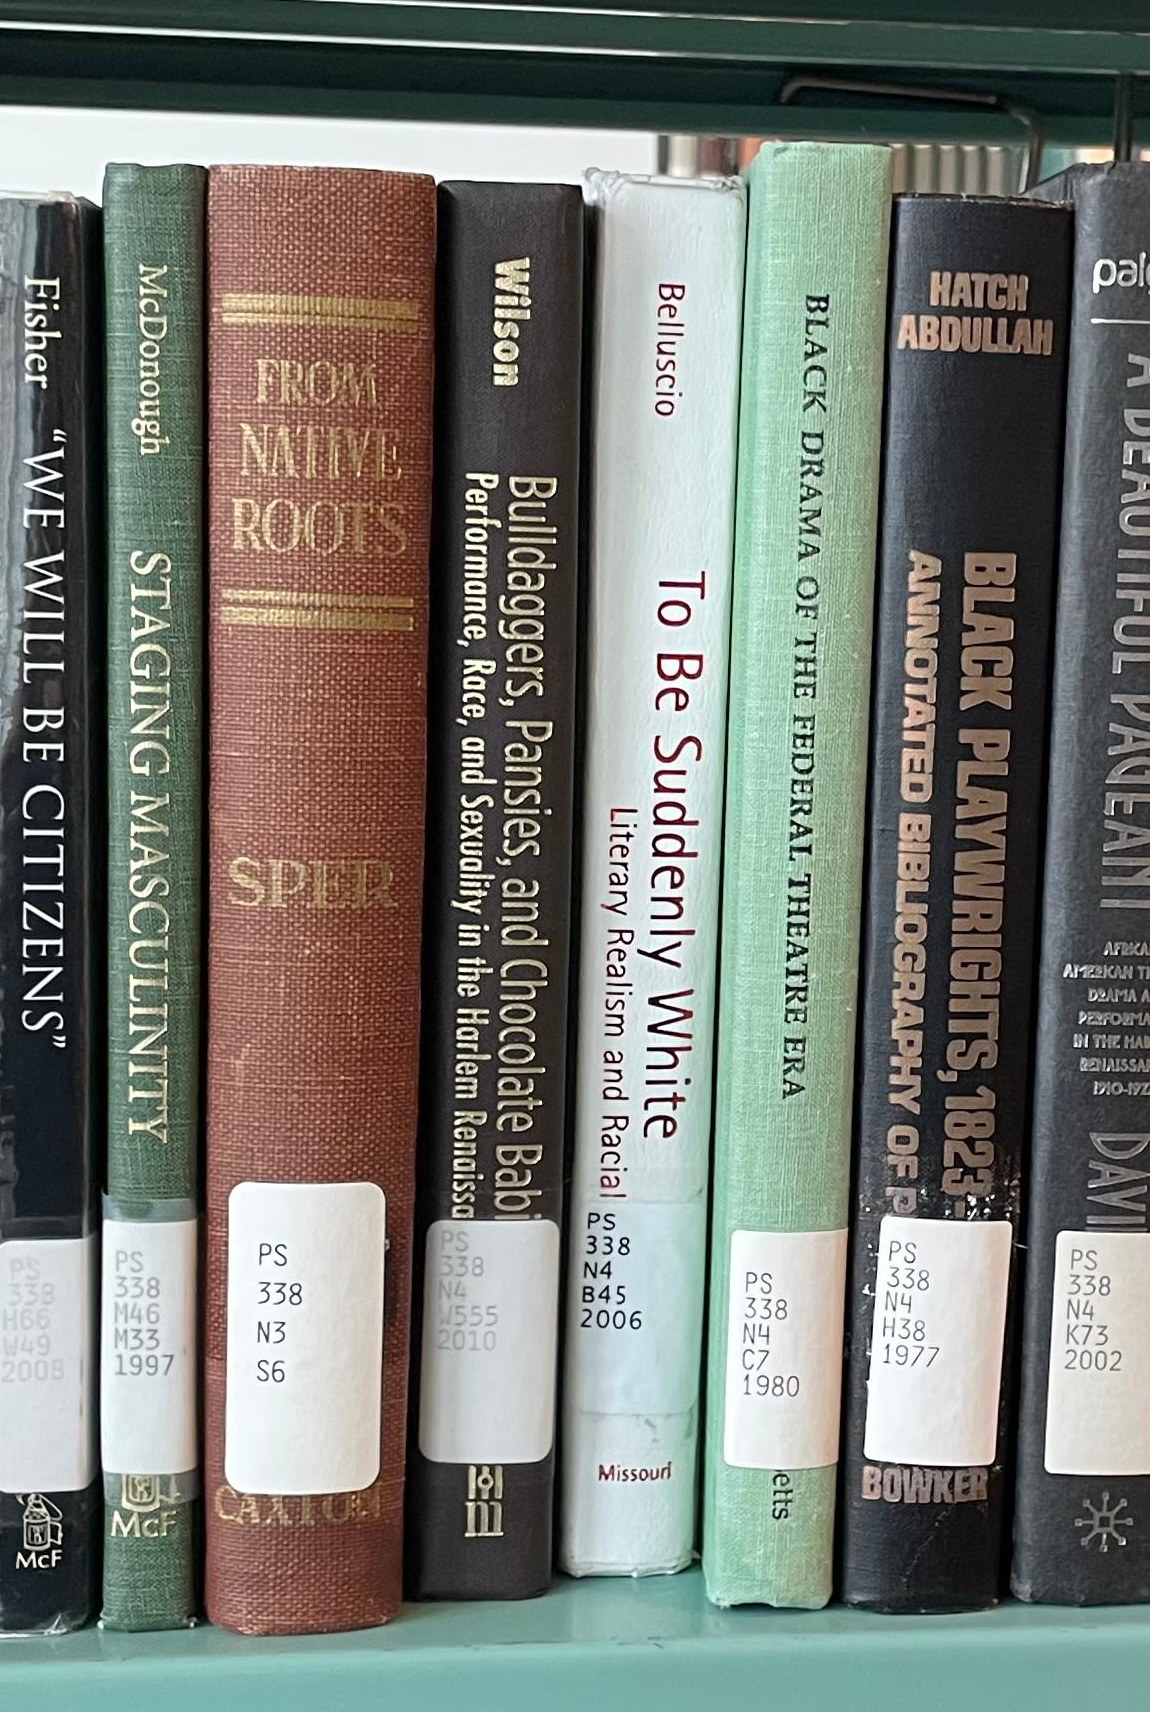call_number: (230, 1183, 380, 1490), (425, 1213, 554, 1464), (875, 1213, 1000, 1463), (726, 1227, 838, 1472), (101, 1217, 195, 1477), (580, 1208, 698, 1414), (1049, 1235, 1150, 1475), (0, 1238, 89, 1498)
